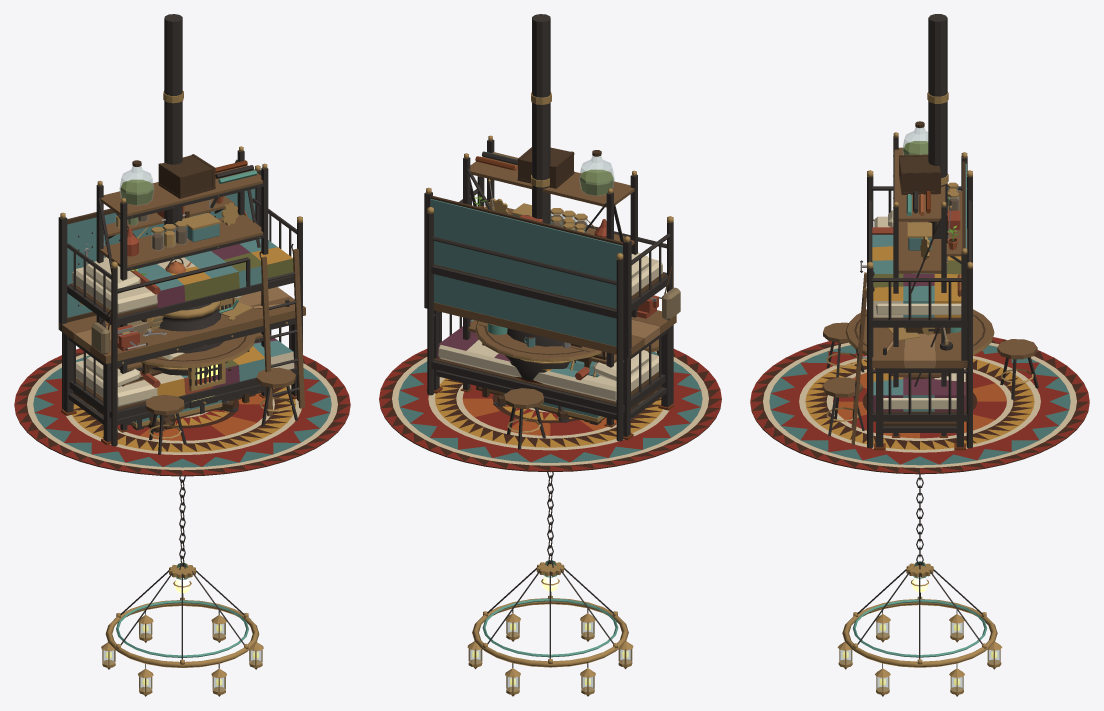
Rendered from hall.glb.
The picture shows the model from 3 angles, left to right: view 1: azimuth 30°, elevation 25°; view 2: azimuth 150°, elevation 25°; view 3: azimuth 270°, elevation 25°; orthographic projection.
Visible parts, largest first — view 1: bunk, rug, workbench, shelf, stove, chandelier, table, chest, radio; view 2: workbench, rug, bunk, shelf, chandelier, stove, table, chest; view 3: rug, bunk, workbench, shelf, chandelier, table, stove.
Part boxes in pixels (x1=…): bunk: x1=62, y1=198, x2=304, y2=446; rug: x1=14, y1=348, x2=350, y2=476; workbench: x1=58, y1=165, x2=305, y2=445; shelf: x1=96, y1=146, x2=268, y2=432; stove: x1=152, y1=14, x2=242, y2=424; chandelier: x1=101, y1=476, x2=263, y2=696; table: x1=139, y1=333, x2=298, y2=454; chest: x1=130, y1=394, x2=255, y2=430; radio: x1=141, y1=199, x2=249, y2=427; workbench: x1=424, y1=187, x2=676, y2=440; rug: x1=379, y1=349, x2=721, y2=472; bunk: x1=427, y1=176, x2=680, y2=441; shelf: x1=460, y1=135, x2=637, y2=427; chandelier: x1=467, y1=472, x2=633, y2=696; stove: x1=487, y1=14, x2=572, y2=420; table: x1=475, y1=321, x2=658, y2=449; chest: x1=476, y1=360, x2=605, y2=424; rug: x1=750, y1=337, x2=1089, y2=474; bunk: x1=851, y1=170, x2=972, y2=448; workbench: x1=860, y1=152, x2=967, y2=450; shelf: x1=892, y1=121, x2=947, y2=437; chandelier: x1=837, y1=474, x2=1002, y2=696; table: x1=822, y1=309, x2=1038, y2=436; stove: x1=862, y1=14, x2=961, y2=358.
Size of the model in its own units: 3.2 by 6.78 by 3.2.
